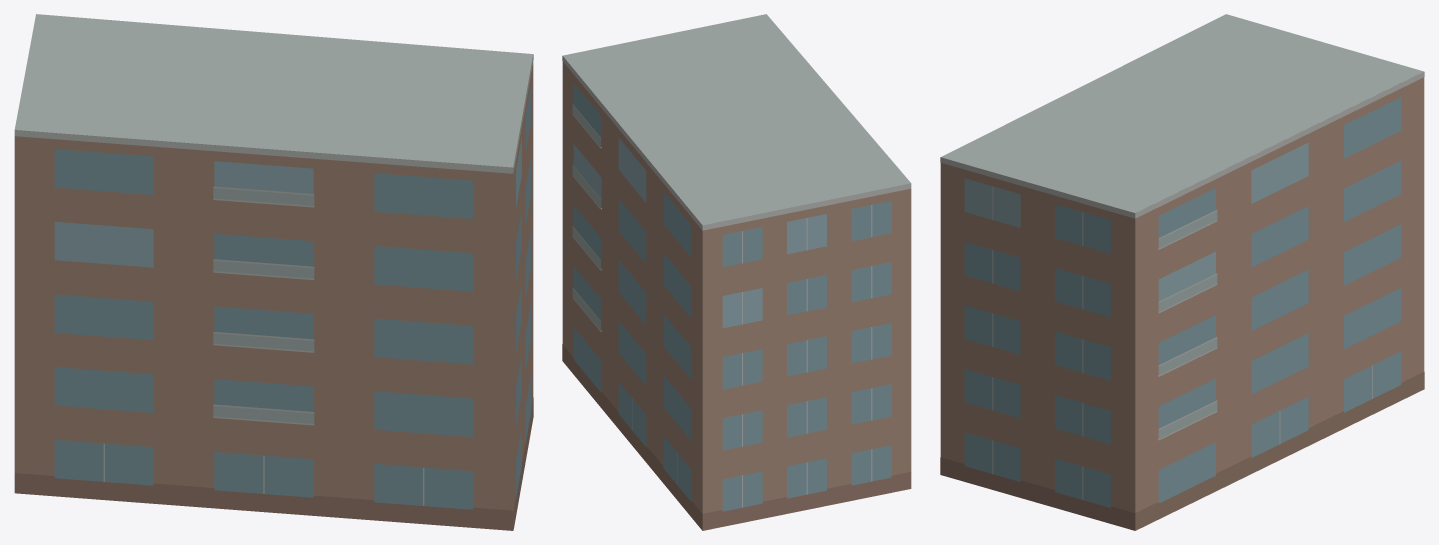
File: survey-upis-32955340.glb
3 renders of one model, left to right at view 1: azimuth 30°, elevation 25°; view 2: azimuth 150°, elevation 25°; view 3: azimuth 270°, elevation 25°, orthographic. The views are drawn at different scales.
Parts seen in each view (by area): view 1: survey-upis-32955340.tmp; view 2: survey-upis-32955340.tmp; view 3: survey-upis-32955340.tmp.
Part boxes in pixels (box(x1,y1,x2,y2)): survey-upis-32955340.tmp: box(14, 14, 533, 530); survey-upis-32955340.tmp: box(562, 14, 911, 530); survey-upis-32955340.tmp: box(940, 14, 1424, 530).
Size of the model in its own units: 19.1 by 14.2 by 19.61.
